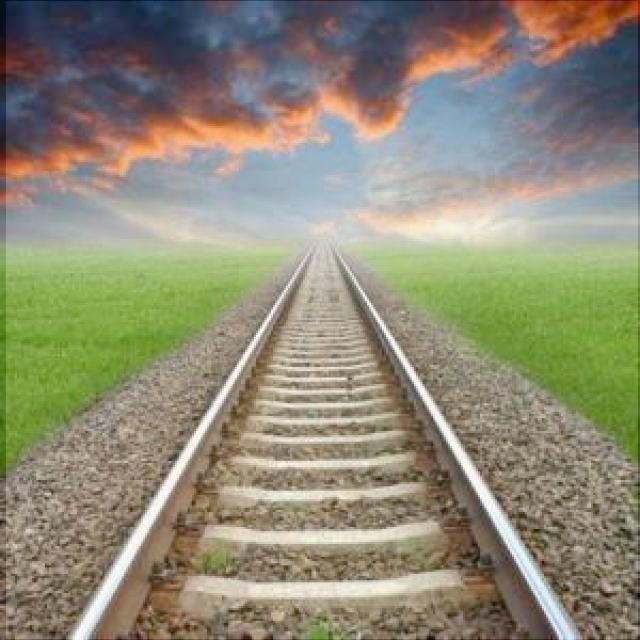rail: (7, 2, 639, 640)
